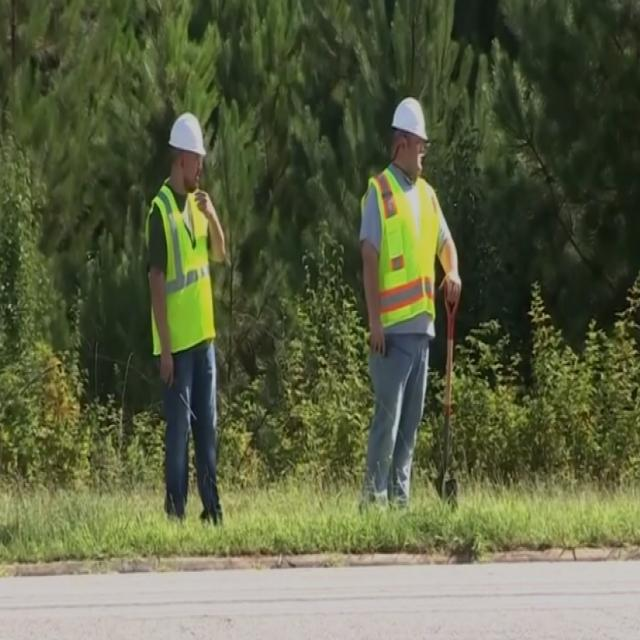Reflective-Jacket: (362, 168, 446, 347), (143, 183, 220, 364)
Safety-Helmet: (166, 107, 209, 161), (390, 89, 430, 147)
